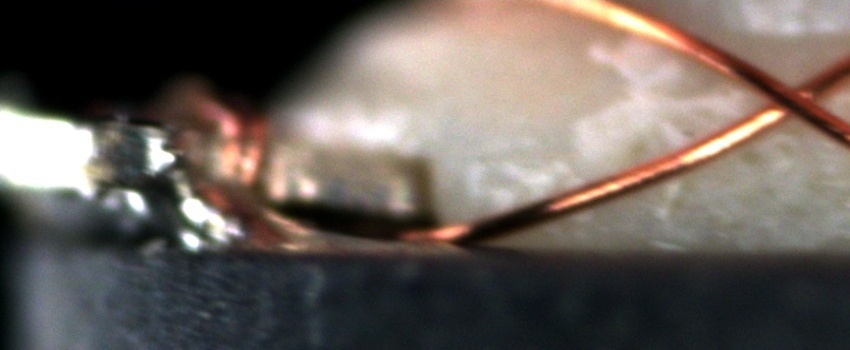CL: (743, 61, 841, 134)
DL: (658, 79, 849, 126)
TE: (160, 85, 274, 205)
